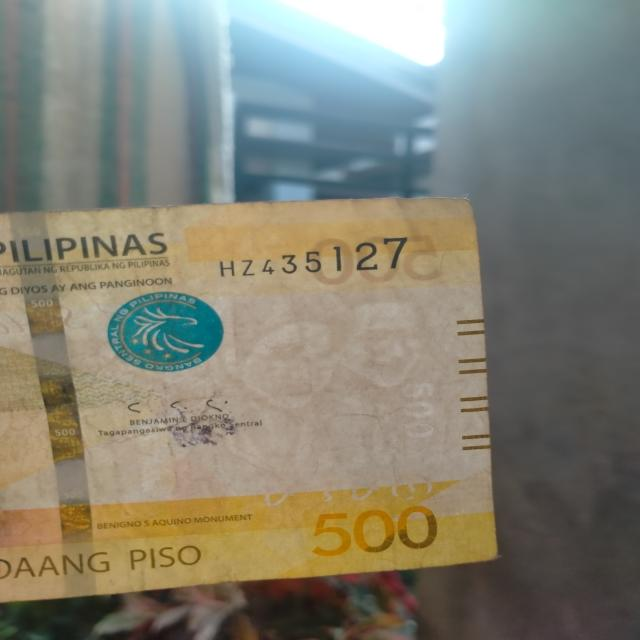security_thread: (9, 208, 102, 588)
see_through_mark: (238, 466, 441, 506)
serial_number: (204, 228, 412, 280)
value_watermark: (394, 378, 444, 443)
watermark: (210, 268, 432, 471)
